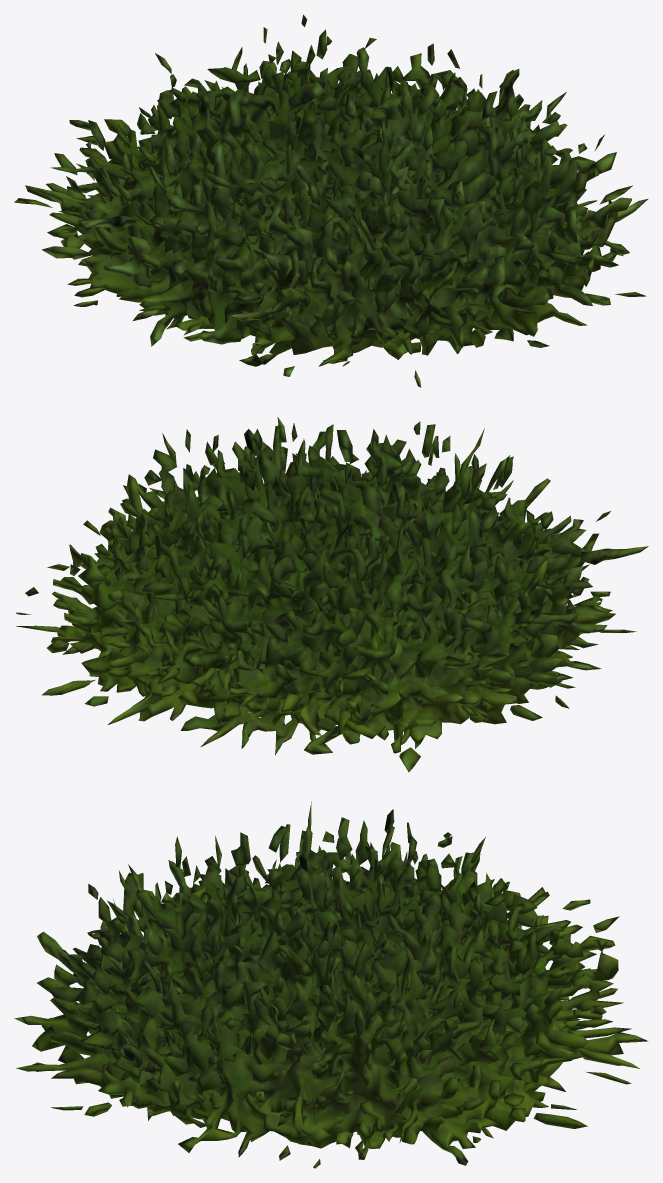
File: AI_SpikyGrassPatch.fbx
The picture shows the model from 3 angles, top to bottom: view 1: azimuth 30°, elevation 25°; view 2: azimuth 150°, elevation 25°; view 3: azimuth 270°, elevation 25°; orthographic projection.
Parts seen in each view (by area): view 1: Mesh1; view 2: Mesh1; view 3: Mesh1.
Boxes of the visible parts, left/top/right/bottom form: Mesh1: left=14, top=14, right=648, bottom=387; Mesh1: left=16, top=417, right=648, bottom=772; Mesh1: left=14, top=801, right=648, bottom=1168.
Size of the model in its own units: 180 by 66.07 by 184.
1 material, 1 textured.
